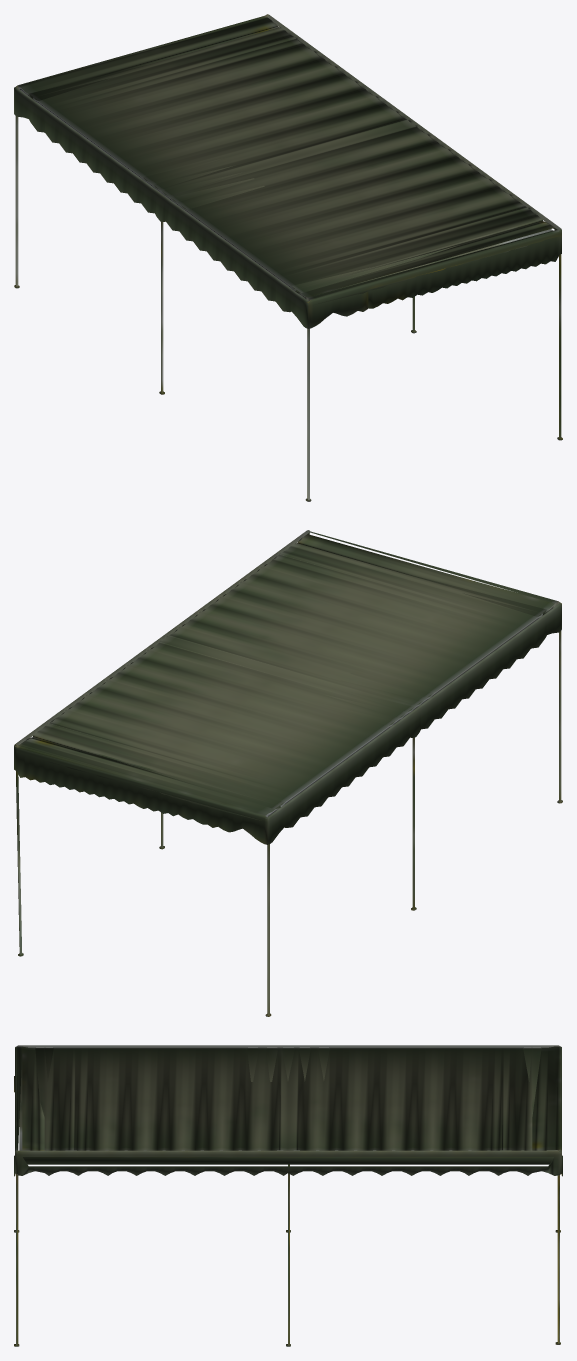
The model's file is tenda.glb.
3 renders of one model, top to bottom at view 1: azimuth 30°, elevation 25°; view 2: azimuth 150°, elevation 25°; view 3: azimuth 270°, elevation 25°, orthographic. The views are drawn at different scales.
Visible parts, largest first — view 1: tripo_node_efb4cba4; view 2: tripo_node_efb4cba4; view 3: tripo_node_efb4cba4.
Boxes of the visible parts, x1,y1,x2,y2 form: tripo_node_efb4cba4: [14, 14, 562, 501]; tripo_node_efb4cba4: [14, 530, 562, 1016]; tripo_node_efb4cba4: [14, 1045, 562, 1346].
Size of the model in its own units: 49.91 by 39.31 by 100.
1 material, 1 textured.
